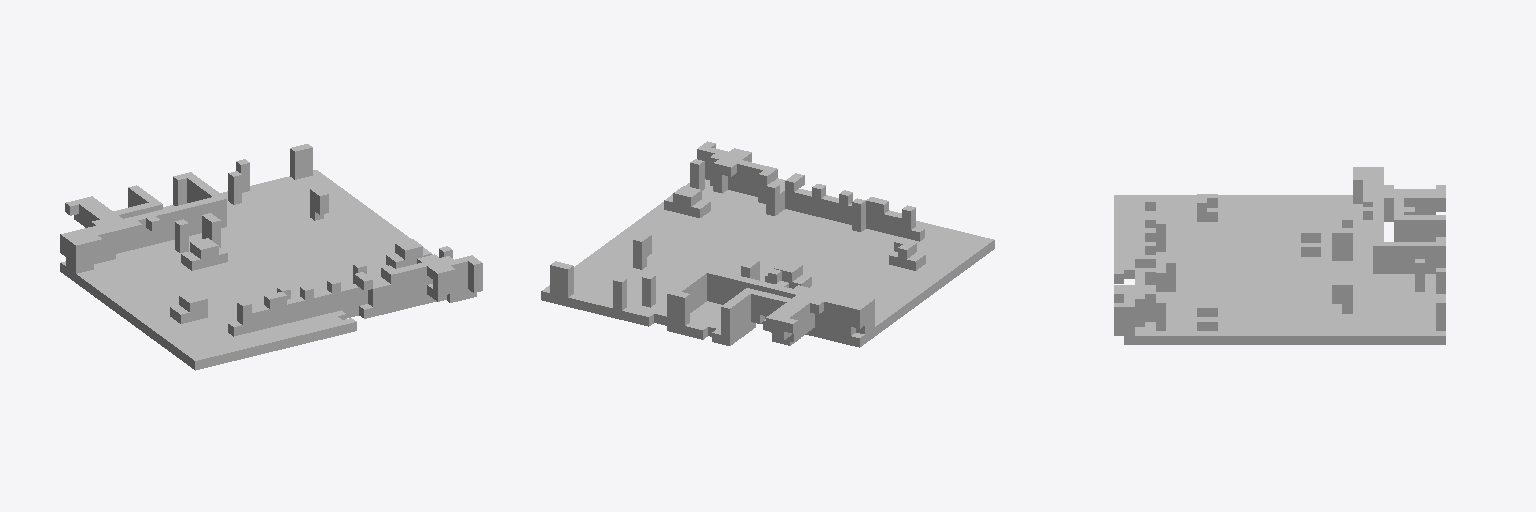
3 renders of one model, left to right at view 1: azimuth 30°, elevation 25°; view 2: azimuth 150°, elevation 25°; view 3: azimuth 270°, elevation 25°, orthographic.
Size of the model in its own units: 10.32 by 1.29 by 10.32.